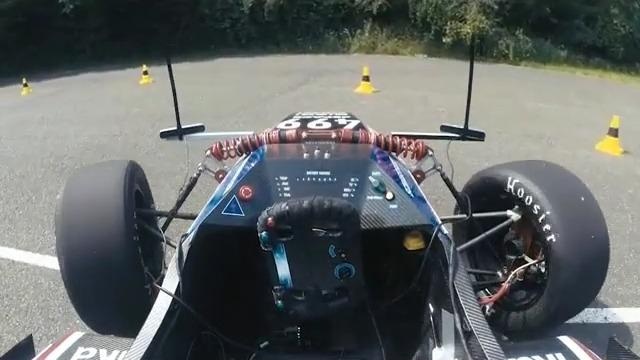yellow_cone: (596, 113, 628, 156), (354, 66, 376, 95), (139, 64, 153, 85), (20, 77, 31, 96)
